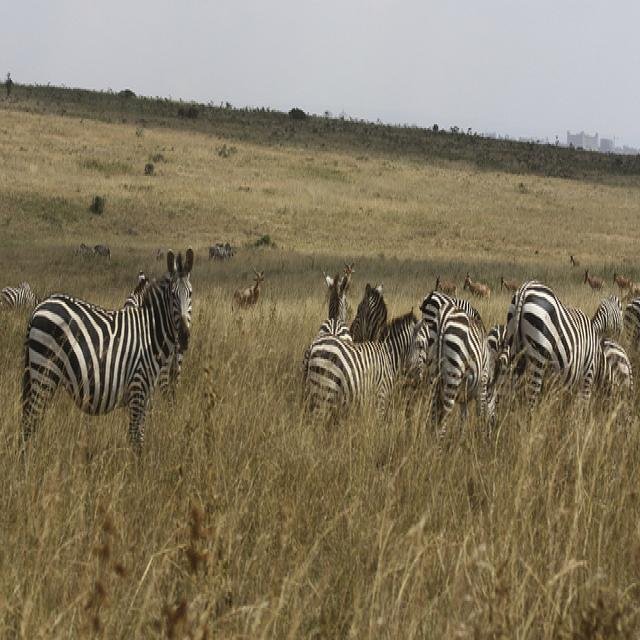zebra: (21, 246, 195, 453), (507, 282, 626, 441), (301, 308, 428, 431), (430, 288, 500, 436), (316, 269, 352, 342), (349, 280, 390, 342), (597, 341, 633, 405), (0, 281, 39, 307), (625, 296, 640, 350), (423, 290, 440, 334)
